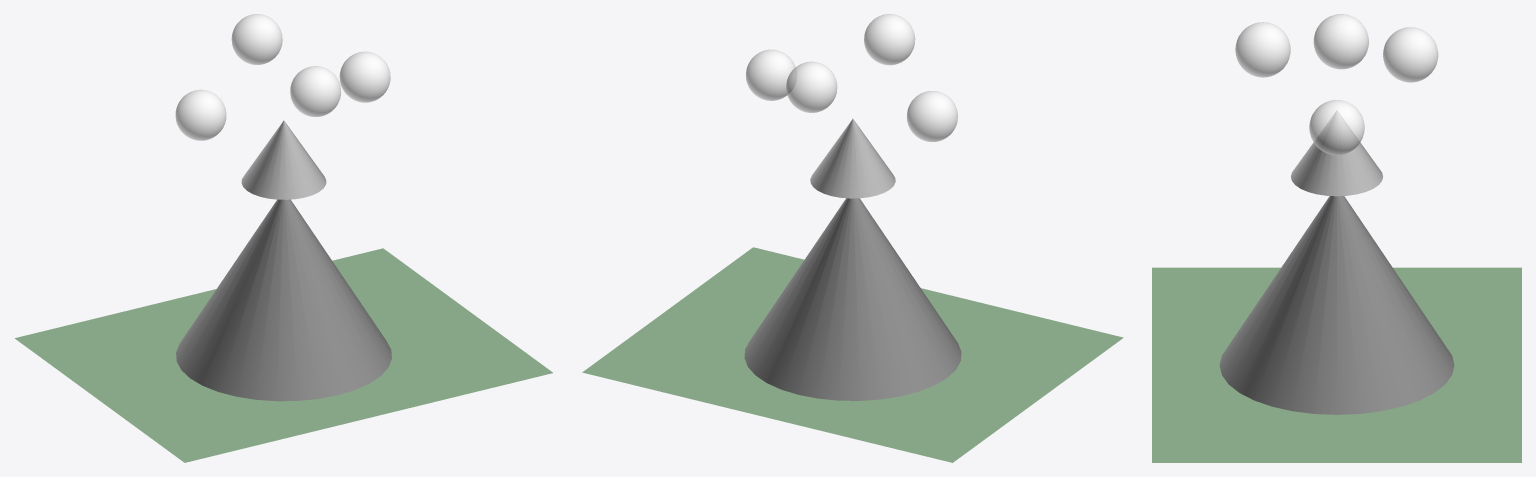
File: mountain.glb
3 views of the same model, side by side, from view 1: azimuth 30°, elevation 25°; view 2: azimuth 150°, elevation 25°; view 3: azimuth 270°, elevation 25° (orthographic). The views are drawn at different scales.
Parts seen in each view (by area): view 1: valley_ground, mountain_peak, snow_cap, cloud_1, cloud_3, cloud_2, cloud_4; view 2: valley_ground, mountain_peak, snow_cap, cloud_4, cloud_2, cloud_3, cloud_1; view 3: valley_ground, mountain_peak, snow_cap, cloud_2, cloud_3, cloud_4, cloud_1.
Part boxes in pixels (<box>): valley_ground: <box>15,248,552,462</box>; mountain_peak: <box>176,199,391,401</box>; snow_cap: <box>241,120,326,199</box>; cloud_1: <box>339,51,390,102</box>; cloud_3: <box>175,89,226,140</box>; cloud_2: <box>290,66,341,116</box>; cloud_4: <box>231,14,282,64</box>; valley_ground: <box>582,247,1123,462</box>; mountain_peak: <box>744,198,961,400</box>; snow_cap: <box>810,119,895,198</box>; cloud_4: <box>786,61,837,112</box>; cloud_2: <box>864,14,915,65</box>; cloud_3: <box>906,91,957,141</box>; cloud_1: <box>746,49,796,100</box>; valley_ground: <box>1152,267,1521,462</box>; mountain_peak: <box>1219,196,1454,414</box>; snow_cap: <box>1291,110,1382,196</box>; cloud_2: <box>1235,22,1290,77</box>; cloud_3: <box>1313,14,1368,69</box>; cloud_4: <box>1383,27,1438,82</box>; cloud_1: <box>1309,100,1364,155</box>.
Bounding box in the file's own units: 1.32 × 1.08 × 1.05.
